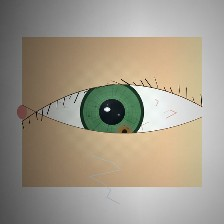foreign_body_visible: (107, 119, 142, 147)
